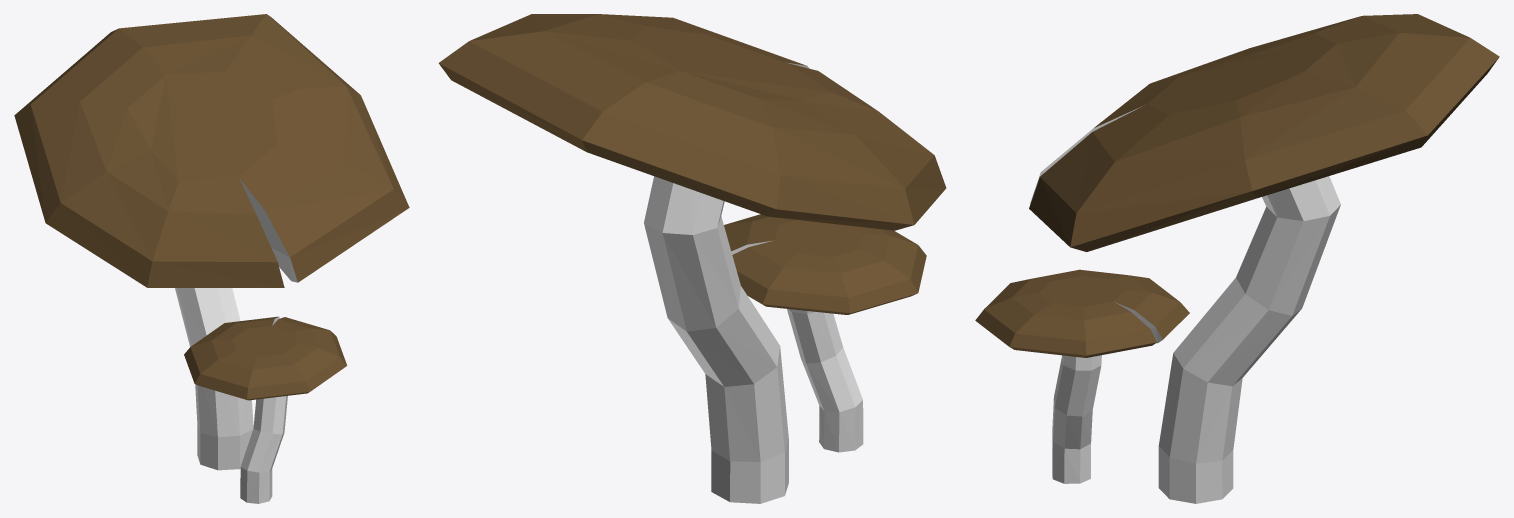
File: mushroom-1.fbx
3 views of the same model, side by side, from view 1: azimuth 30°, elevation 25°; view 2: azimuth 150°, elevation 25°; view 3: azimuth 270°, elevation 25° (orthographic). The views are drawn at different scales.
Visible parts, largest first — view 1: Cylinder.005, Cylinder.002; view 2: Cylinder.005, Cylinder.002; view 3: Cylinder.005, Cylinder.002.
Part boxes in pixels (left/top/right/bottom): Cylinder.005: left=14, top=14, right=409, bottom=470; Cylinder.002: left=184, top=316, right=347, bottom=503; Cylinder.005: left=438, top=14, right=946, bottom=503; Cylinder.002: left=724, top=214, right=926, bottom=452; Cylinder.005: left=1029, top=14, right=1499, bottom=503; Cylinder.002: left=975, top=269, right=1189, bottom=483.
Size of the model in its own units: 1216 by 1347 by 1404.
